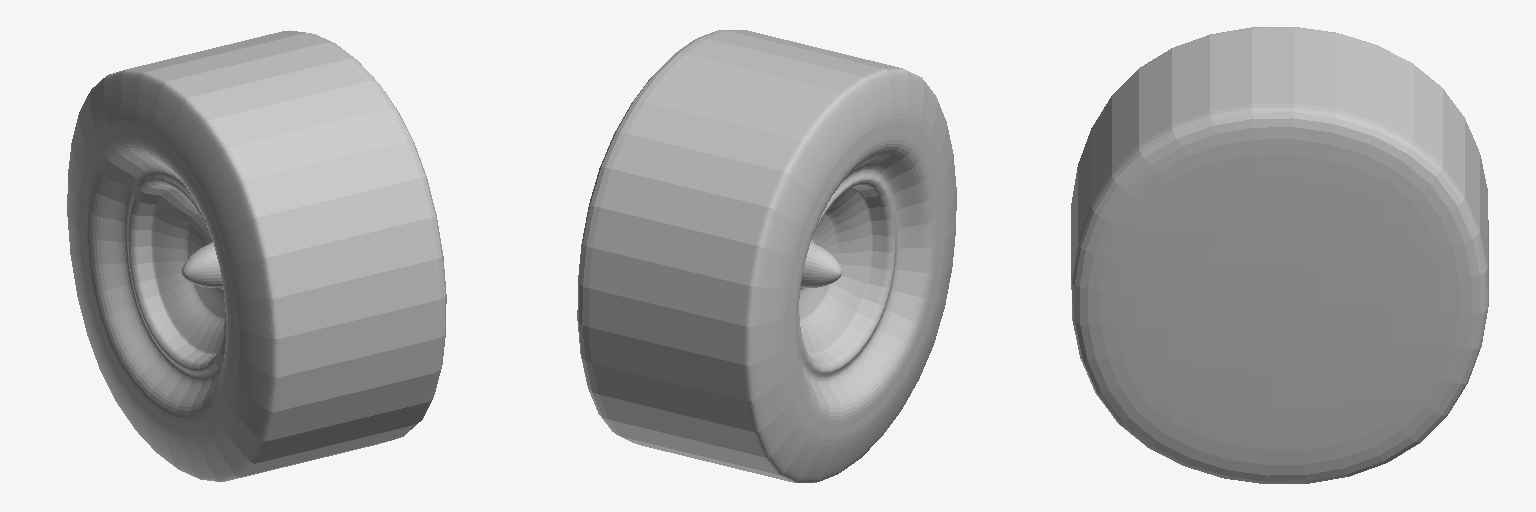
File: wheel1.obj
3 views of the same model, side by side, from view 1: azimuth 30°, elevation 25°; view 2: azimuth 150°, elevation 25°; view 3: azimuth 270°, elevation 25° (orthographic).
Visible parts, largest first — view 1: Chevrolet.Wheel.Ft.R; view 2: Chevrolet.Wheel.Ft.R; view 3: Chevrolet.Wheel.Ft.R.
Part boxes in pixels (x1,y1,x2,y2): Chevrolet.Wheel.Ft.R: (67,30,446,481); Chevrolet.Wheel.Ft.R: (577,30,956,482); Chevrolet.Wheel.Ft.R: (1071,27,1488,483).
Size of the model in its own units: 0.4895 by 0.9056 by 0.9056.